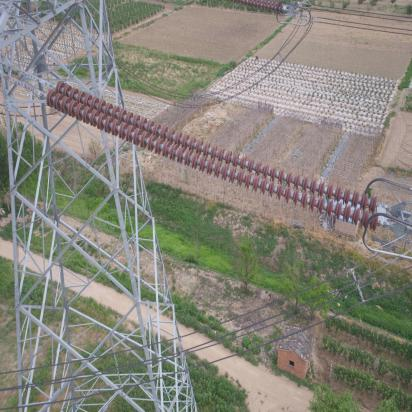insulator: (33, 76, 397, 234)
